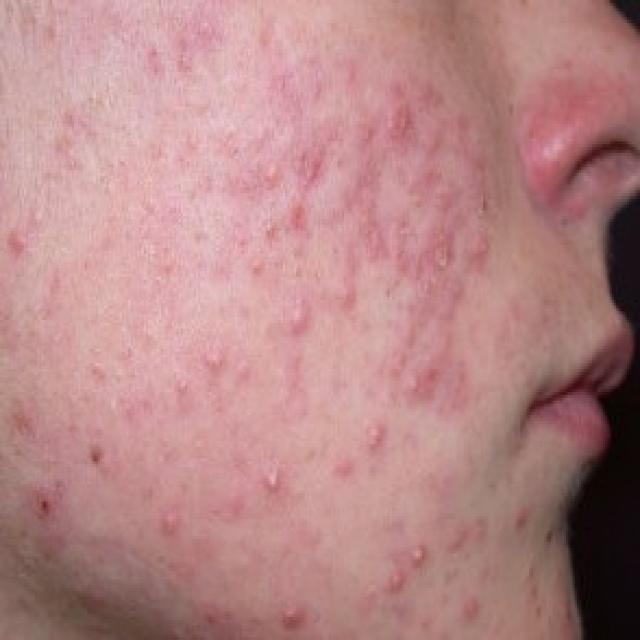Acne: (256, 145, 340, 249), (347, 235, 420, 330), (386, 341, 486, 405), (426, 187, 490, 275), (518, 95, 561, 224), (86, 352, 163, 422), (270, 281, 338, 341), (521, 574, 587, 632), (157, 485, 196, 578), (348, 130, 392, 212), (6, 198, 59, 266), (0, 386, 46, 464), (73, 437, 139, 489), (426, 289, 508, 330), (391, 106, 454, 159), (446, 511, 508, 563), (384, 48, 448, 98), (453, 579, 509, 634), (53, 100, 116, 148), (148, 45, 218, 88), (260, 74, 328, 116), (356, 405, 400, 468), (268, 592, 330, 634), (281, 350, 320, 416), (198, 349, 266, 382), (176, 125, 242, 158), (252, 22, 304, 60), (334, 56, 378, 95), (188, 16, 240, 44), (405, 537, 441, 576), (257, 460, 295, 494), (164, 372, 201, 405), (378, 576, 424, 602), (27, 487, 62, 521), (512, 510, 538, 550)
